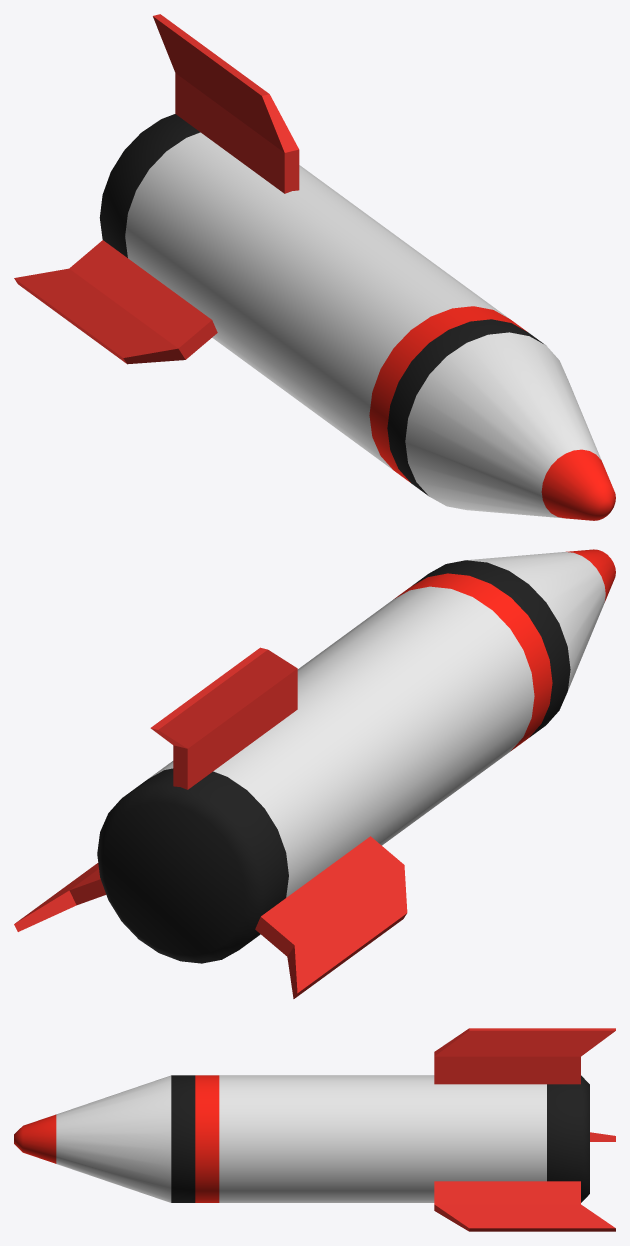
File: torpedo.fbx
3 renders of one model, top to bottom at view 1: azimuth 30°, elevation 25°; view 2: azimuth 150°, elevation 25°; view 3: azimuth 270°, elevation 25°, orthographic. The views are drawn at different scales.
Visible parts, largest first — view 1: Torpedo; view 2: Torpedo; view 3: Torpedo.
Boxes of the visible parts, x1,y1,x2,y2 form: Torpedo: [14, 14, 615, 520]; Torpedo: [14, 549, 615, 998]; Torpedo: [14, 1028, 615, 1231].
Size of the model in its own units: 132 by 363 by 112.
